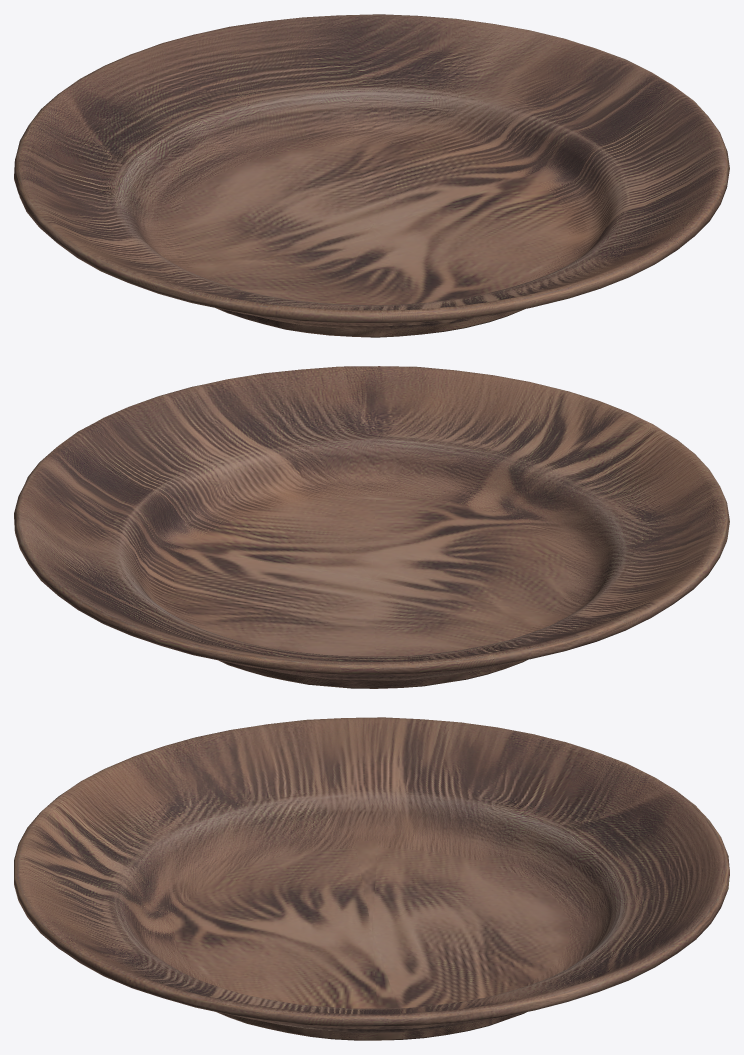
File: wood_grain_charger_plate_0225004043_texture.glb
3 renders of one model, top to bottom at view 1: azimuth 30°, elevation 25°; view 2: azimuth 150°, elevation 25°; view 3: azimuth 270°, elevation 25°, orthographic.
Visible parts, largest first — view 1: Mesh_0; view 2: Mesh_0; view 3: Mesh_0.
Boxes of the visible parts, bbox=[...] form: Mesh_0: bbox=[14, 14, 729, 337]; Mesh_0: bbox=[14, 366, 729, 688]; Mesh_0: bbox=[14, 717, 729, 1040].
Size of the model in its own units: 0.1963 by 0.0254 by 0.1959.
Materials: 1 (1 with a texture image).
